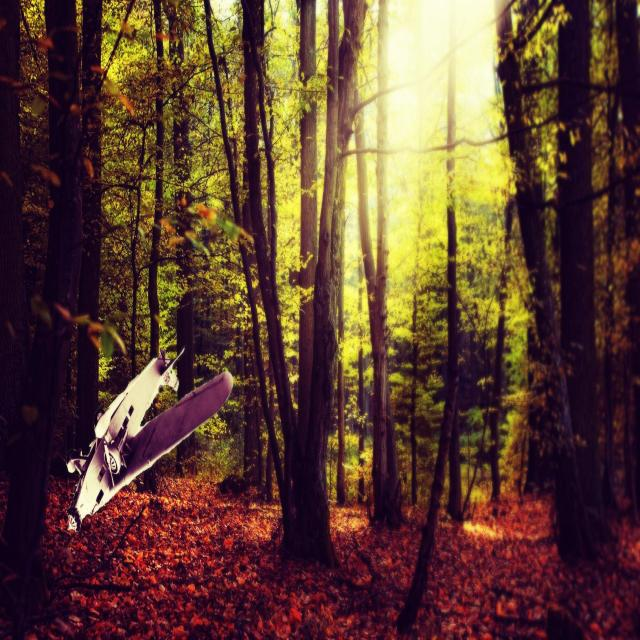airplane: (65, 345, 234, 535)
